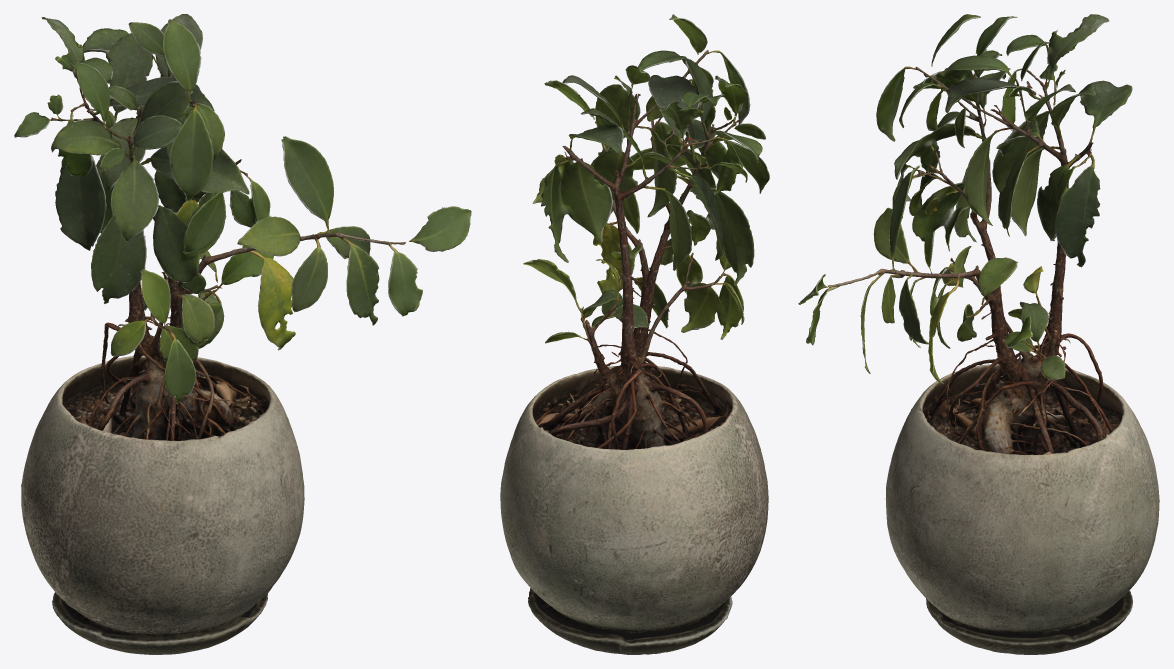
The model's file is potted_plant.glb.
3 views of the same model, side by side, from view 1: azimuth 30°, elevation 25°; view 2: azimuth 150°, elevation 25°; view 3: azimuth 270°, elevation 25° (orthographic). The views are drawn at different scales.
Visible parts, largest first — view 1: Object_2, Object_3; view 2: Object_2, Object_3; view 3: Object_2, Object_3.
Boxes of the visible parts, x1,y1,x2,y2 form: Object_2: (21, 14, 471, 654); Object_3: (14, 17, 320, 541); Object_2: (500, 50, 768, 654); Object_3: (528, 14, 769, 618); Object_2: (798, 20, 1159, 654); Object_3: (889, 14, 1131, 647).
Size of the model in its own units: 0.2432 by 0.4311 by 0.2356.
1 material, 1 textured.
